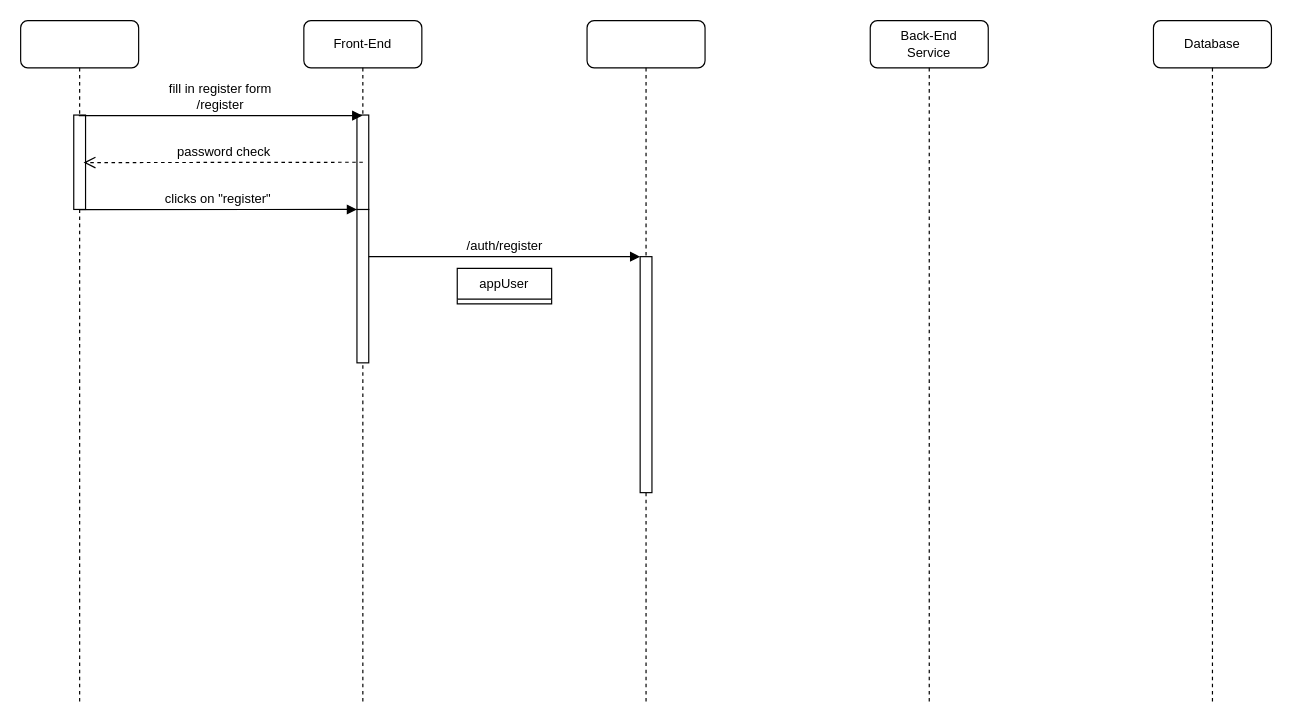
Image size: 1292x726. Some labels were removed from this diagram. Each missing label, with the box of its shape:
Back-End Co ntroller: (586, 19, 705, 705)
User: (19, 19, 139, 705)
